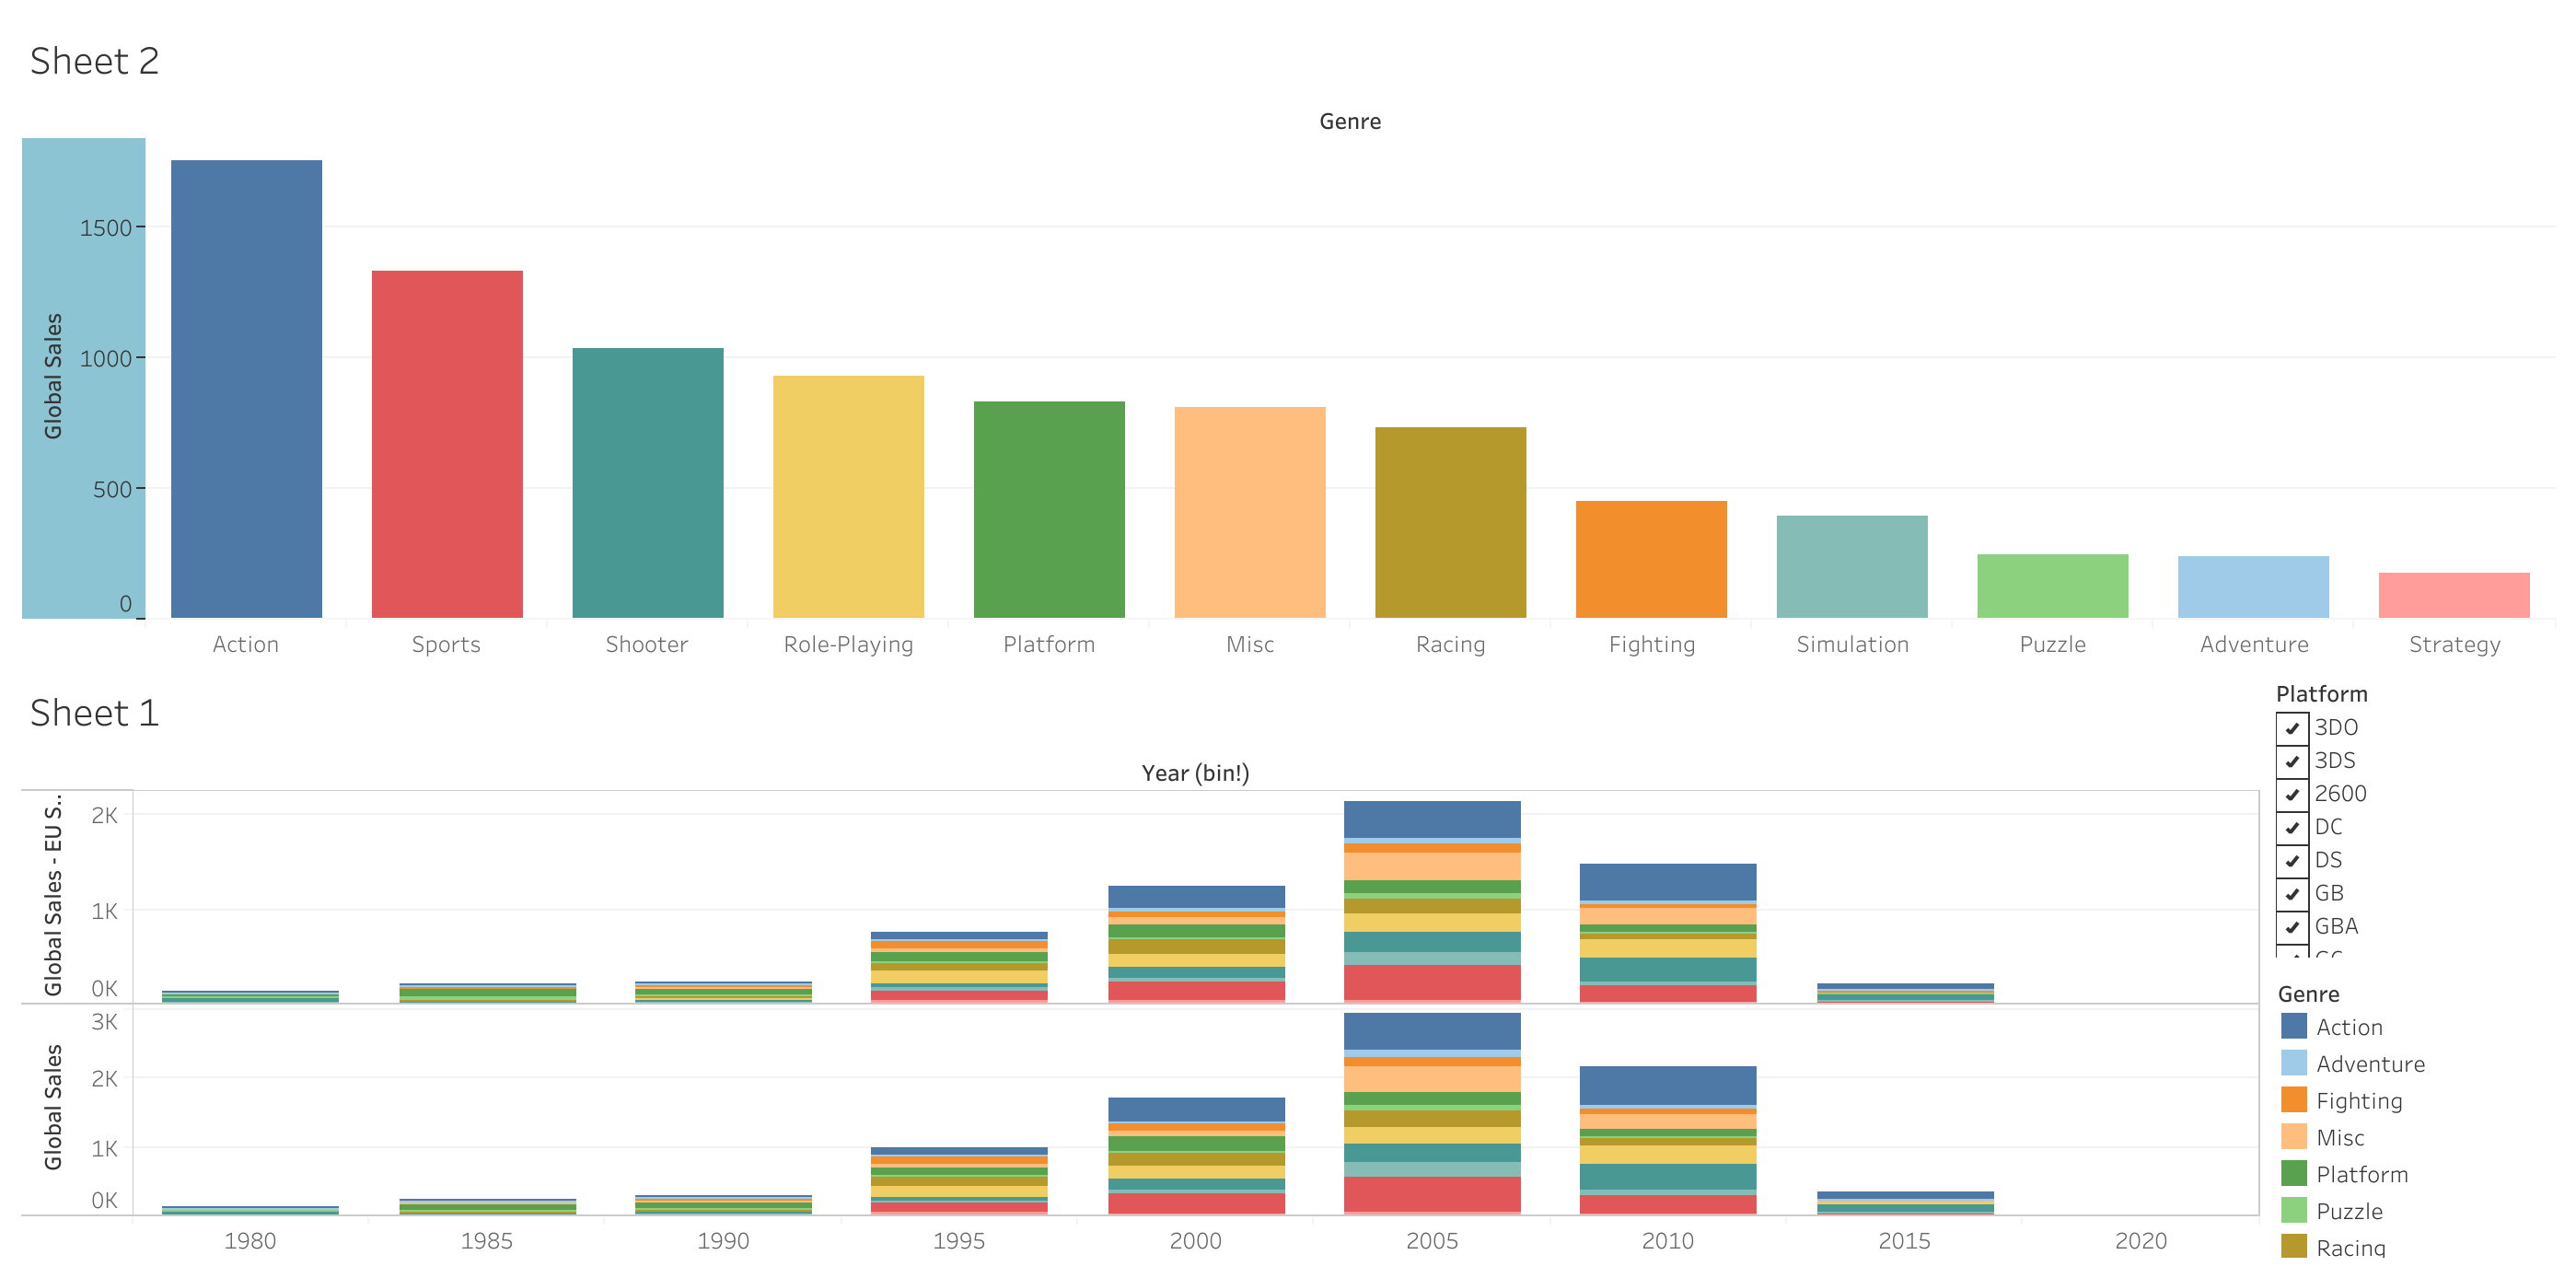

The page's visual inventory and layout, read from the dashboard file:
{"tool":"tableau","page":{"name":"Dashboard 1","canvas":[1000,1000],"units":"permille","ordinal":0},"visuals":[{"type":"worksheet","title":"Sheet 2","mark":"Automatic","rows":["Global_Sales"],"cols":["Genre"],"box":[6.5,10.4,987,510.1]},{"type":"worksheet","title":"Sheet 1","mark":"Automatic","rows":["Calculation_1044624027770384384","Global_Sales"],"cols":["Year (bin)"],"box":[6.5,520.5,856.8,469.1]},{"type":"filter","title":"Sheet 1","param":"[federated.10u9fuk1alvs0d1e86t7a0bwm5qg].[none:Platform:nk]","box":[863.3,520.5,130.2,234.5]},{"type":"legend","title":"Sheet 1","param":"[federated.10u9fuk1alvs0d1e86t7a0bwm5qg].[none:Genre:nk]","box":[863.3,755,130.2,234.6]}]}

Visuals, with their boxes on the dashboard's canvas, which has no fixed pixel size, in thousandths of its width and height (x1, y1, x2, y2). These are canvas units, not pixel positions in the 2576x1278 screenshot, which may show the page scaled, cropped or inside an application window:
"Sheet 2" worksheet: <region>6, 10, 994, 520</region>
"Sheet 1" worksheet: <region>6, 520, 863, 990</region>
"Sheet 1" filter: <region>863, 520, 994, 755</region>
"Sheet 1" legend: <region>863, 755, 994, 990</region>
